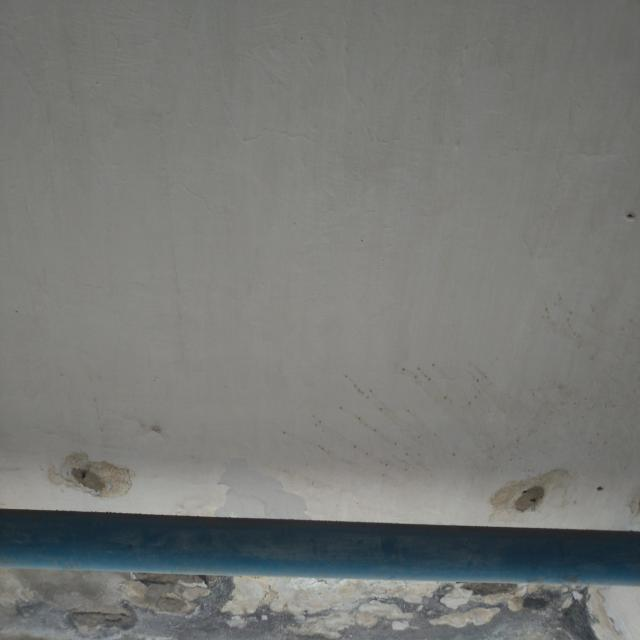gas: (3, 510, 639, 579)
